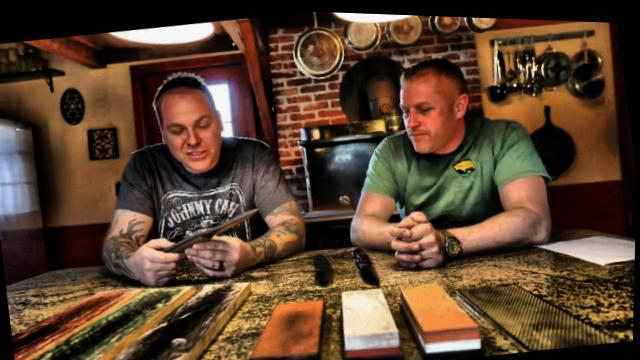knife: (136, 189, 279, 274)
